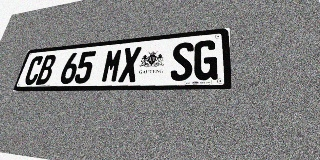5: (73, 51, 96, 84)
6: (59, 52, 81, 84)
B: (35, 54, 57, 85)
C: (23, 56, 44, 85)
G: (193, 39, 217, 80)
M: (100, 48, 124, 83)
S: (170, 42, 194, 81)
X: (118, 46, 142, 82)
